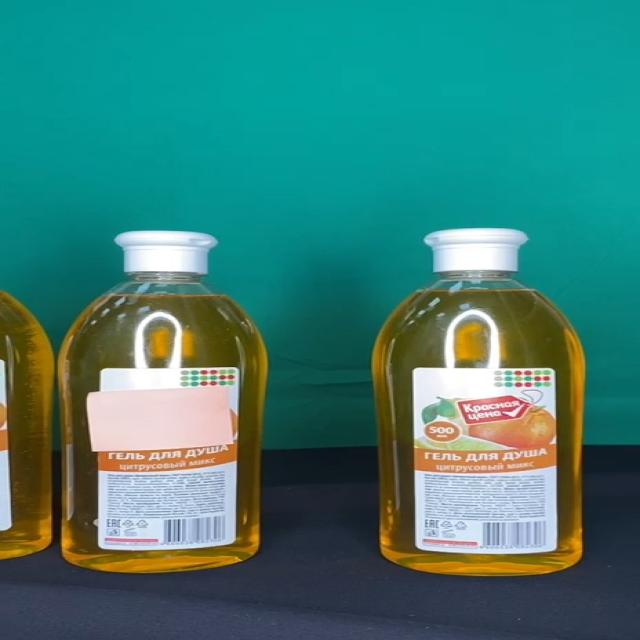Bottle: (375, 228, 584, 576), (59, 231, 268, 573)
Cap: (424, 229, 528, 272), (114, 232, 220, 274)
